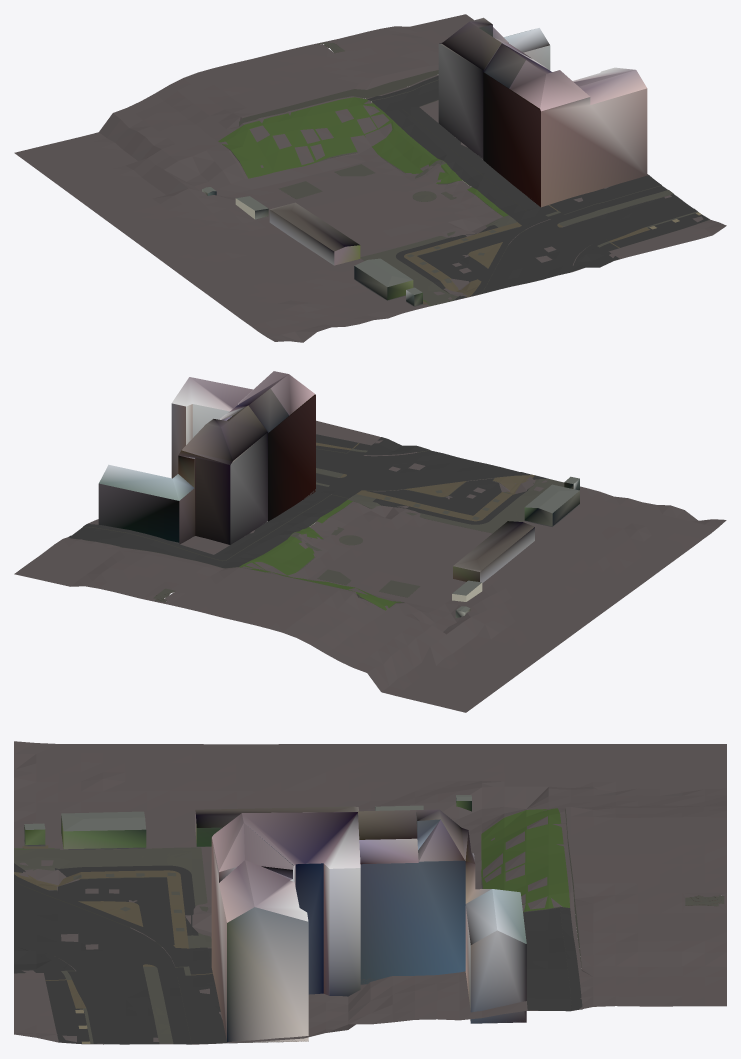
3 renders of one model, top to bottom at view 1: azimuth 30°, elevation 25°; view 2: azimuth 150°, elevation 25°; view 3: azimuth 270°, elevation 25°, orthographic. The views are drawn at different scales.
Parts seen in each view (by area): view 1: c_m01_m16; view 2: c_m01_m16; view 3: c_m01_m16.
Boxes of the visible parts, x1,y1,x2,y2 form: c_m01_m16: (14,14,726,342); c_m01_m16: (14,371,726,712); c_m01_m16: (14,741,726,1044).
Bounding box in the file's own units: 128 × 35.55 × 128.
